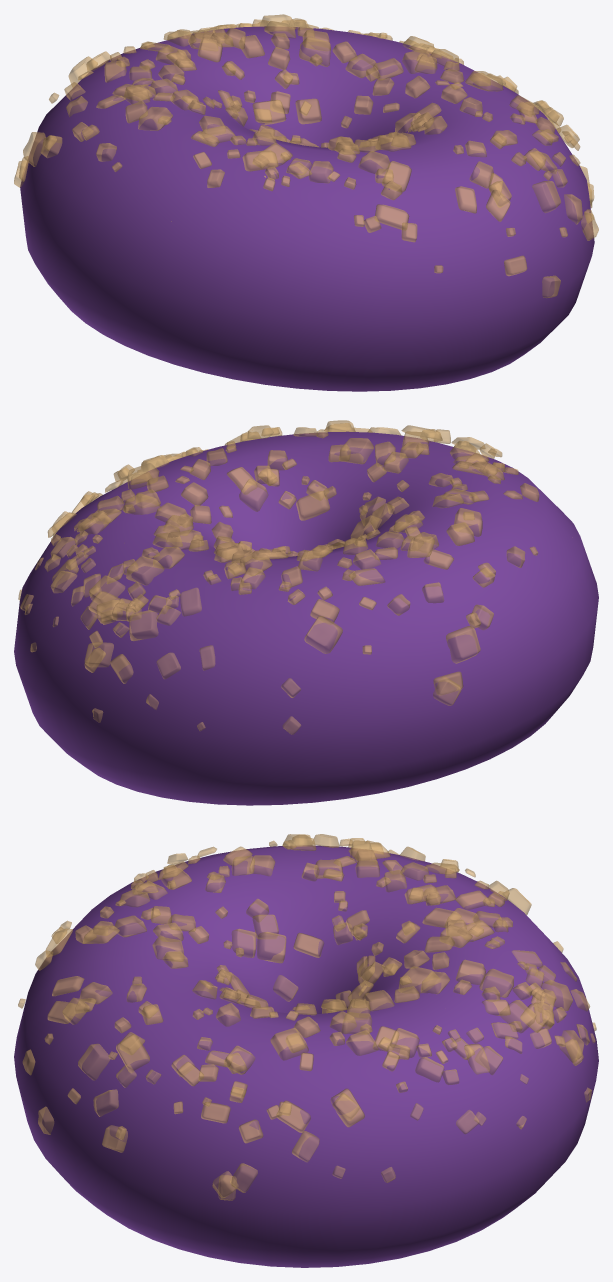
3 views of the same model, one above another, from view 1: azimuth 30°, elevation 25°; view 2: azimuth 150°, elevation 25°; view 3: azimuth 270°, elevation 25° (orthographic).
Visible parts, largest first — view 1: Torus, Cube.080; view 2: Torus, Cube.080; view 3: Torus, Cube.080.
Part boxes in pixels (<box>): Torus: <box>20,26,594,391</box>; Cube.080: <box>14,14,598,297</box>; Torus: <box>14,431,598,805</box>; Cube.080: <box>18,420,539,734</box>; Torus: <box>14,845,598,1267</box>; Cube.080: <box>18,834,596,1200</box>.
Size of the model in its own units: 3.58 by 1.79 by 3.6.
